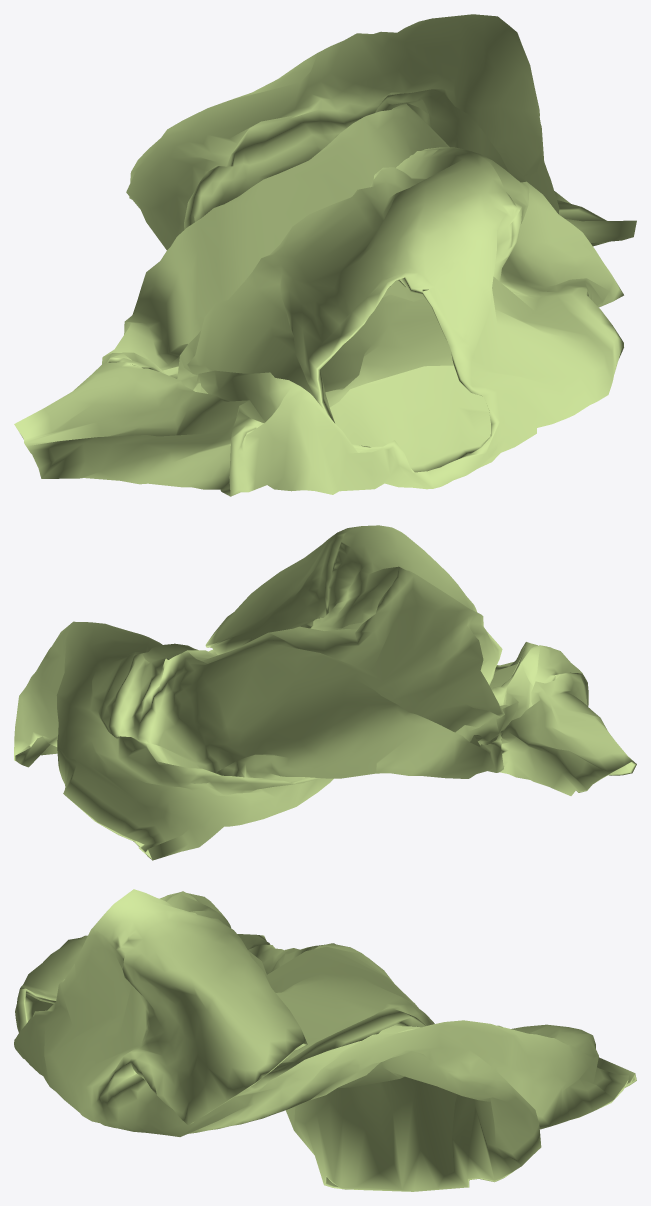
File: Shirt ClothSim_V3_ShapeKey_Animated (1).fbx
3 renders of one model, top to bottom at view 1: azimuth 30°, elevation 25°; view 2: azimuth 150°, elevation 25°; view 3: azimuth 270°, elevation 25°, orthographic. The views are drawn at different scales.
Visible parts, largest first — view 1: Shirt; view 2: Shirt; view 3: Shirt.
Part boxes in pixels (x1,y1,x2,y2): Shirt: (14,14,636,496); Shirt: (14,525,636,860); Shirt: (14,889,636,1191).
Size of the model in its own units: 1016 by 337 by 1023.
Materials: 1 (1 with a texture image).
